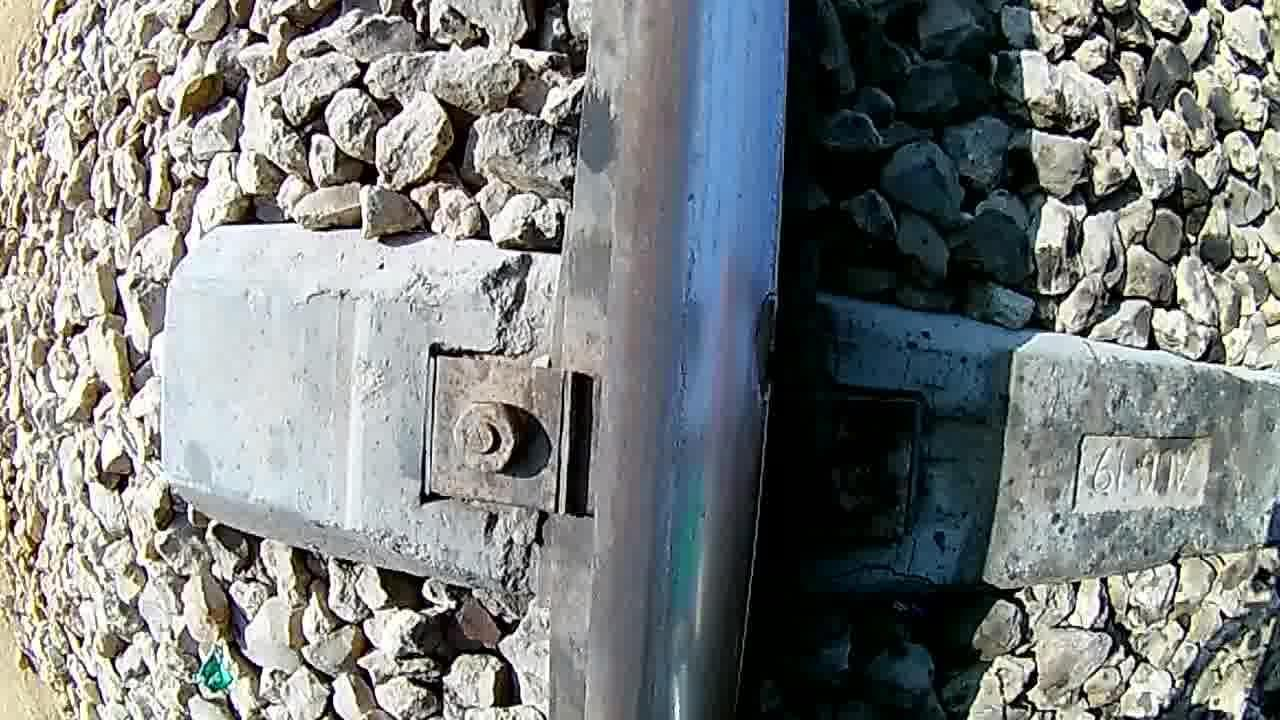crack: (590, 0, 756, 720)
